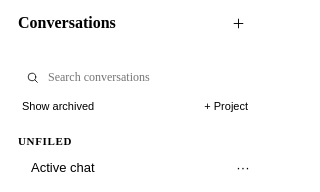
Test case: Sidebar › Show archived reveals archived conversations loaded by the workspace
Expected: the text "Active chat" is shown, [31, 160, 95, 174]
Expected: the text "Archived chat" is not shown
Click the button "Show archived": (58, 106) [16, 99, 100, 113]
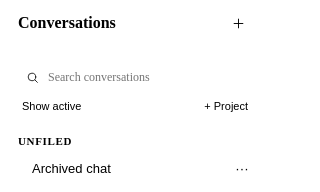
Expected: the text "Archived chat" is shown, [32, 160, 111, 176]
Expected: the button "Active chat" is gone
